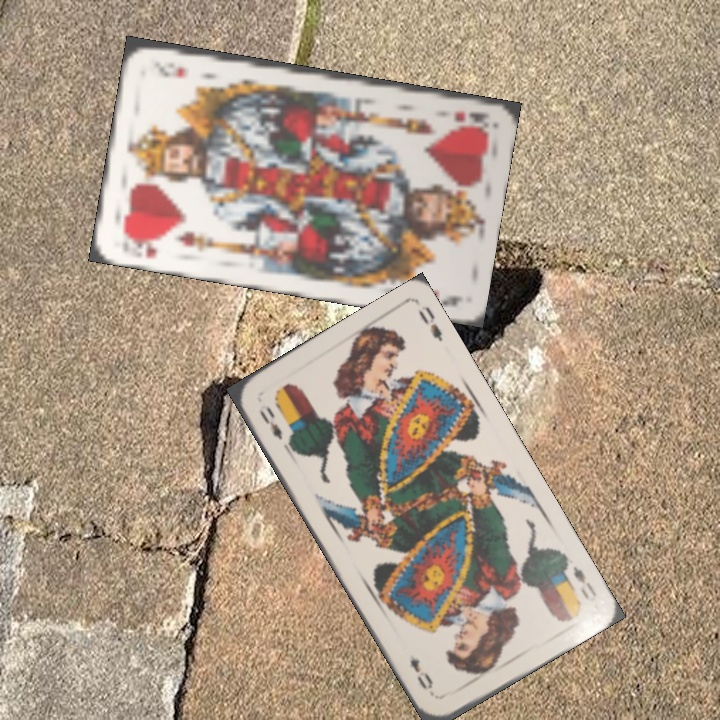EO: (568, 562, 600, 605), (254, 402, 286, 443)
HK: (119, 231, 165, 260), (449, 106, 492, 126)
